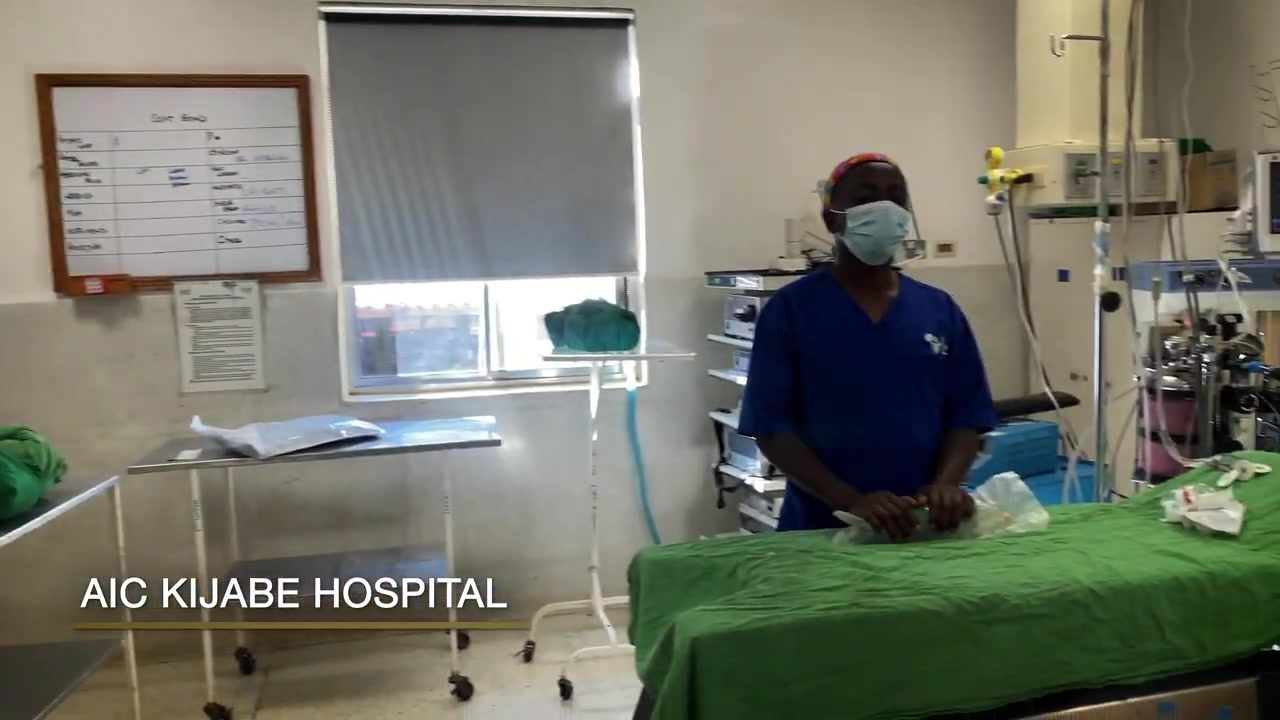bedside_monitor: (1254, 153, 1280, 259)
hospital_bed: (628, 449, 1274, 720)
iv_pole: (1050, 30, 1114, 504)
staff: (737, 153, 997, 544)
utility_cart: (126, 414, 503, 720), (525, 330, 700, 700), (1, 424, 154, 709)
